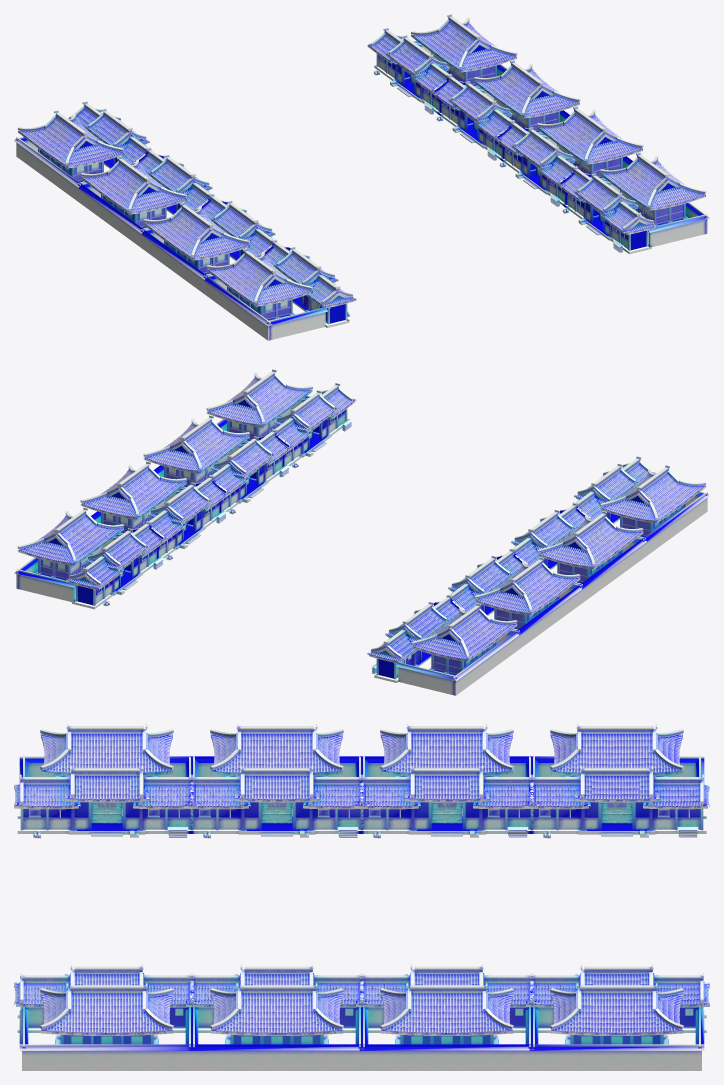
File: NMJ_Yukjo.fbx
3 views of the same model, one above another, from view 1: azimuth 30°, elevation 25°; view 2: azimuth 150°, elevation 25°; view 3: azimuth 270°, elevation 25° (orthographic). The views are drawn at different scales.
Parts seen in each view (by area): view 1: 육조_수키와, 육조_암키와, 육조_백골, 육조_꽃담, 육조_양성, 육조_회벽, 육조_분합문, 육조_장대석, 육조_전돌바닥; view 2: 육조_수키와, 육조_암키와, 육조_백골, 육조_꽃담, 육조_양성, 육조_회벽, 육조_분합문, 육조_장대석, 육조_전돌바닥; view 3: 육조_수키와, 육조_암키와, 육조_꽃담, 육조_백골, 육조_양성, 육조_회벽, 육조_분합문, 육조_장대석, 육조_yjdoor, 육조_전돌바닥, 육조_줄눈.
Boxes of the visible parts, x1,y1,x2,y2 form: 육조_수키와: (14, 14, 708, 325); 육조_암키와: (18, 18, 705, 306); 육조_백골: (14, 35, 708, 325); 육조_꽃담: (16, 45, 707, 340); 육조_양성: (16, 19, 709, 325); 육조_회벽: (40, 45, 683, 323); 육조_분합문: (42, 53, 653, 312); 육조_장대석: (104, 65, 651, 327); 육조_전돌바닥: (80, 78, 688, 320); 육조_수키와: (15, 369, 709, 680); 육조_암키와: (18, 373, 705, 661); 육조_백골: (15, 387, 709, 680); 육조_꽃담: (16, 400, 707, 695); 육조_양성: (14, 374, 707, 680); 육조_회벽: (40, 400, 683, 678); 육조_분합문: (43, 408, 681, 676); 육조_장대석: (72, 426, 619, 682); 육조_전돌바닥: (35, 433, 643, 675); 육조_수키와: (14, 724, 709, 1050); 육조_암키와: (14, 729, 709, 1033); 육조_꽃담: (22, 763, 701, 1070); 육조_백골: (14, 733, 709, 1050); 육조_양성: (19, 732, 704, 1048); 육조_회벽: (23, 802, 700, 1044); 육조_분합문: (25, 775, 693, 1044); 육조_장대석: (17, 803, 706, 1044); 육조_yjdoor: (91, 802, 632, 823); 육조_전돌바닥: (55, 776, 668, 1044); 육조_줄눈: (29, 802, 668, 815).
Size of the model in its own units: 70.46 by 7.83 by 69.6.
